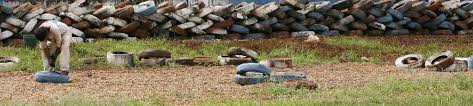tire: (424, 49, 456, 73), (394, 52, 428, 72), (106, 49, 139, 67), (234, 72, 271, 87), (33, 71, 70, 84), (234, 64, 270, 77), (1, 54, 22, 70)
